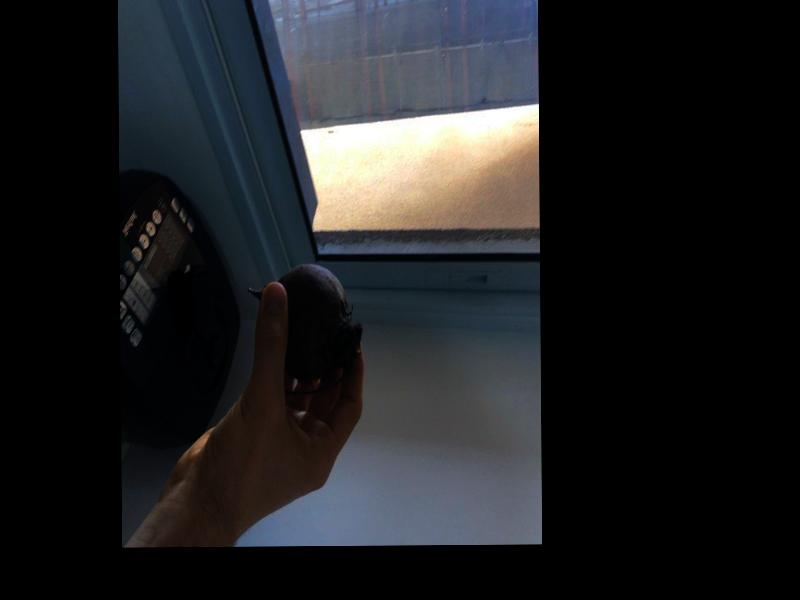Beet: (248, 263, 362, 393)
